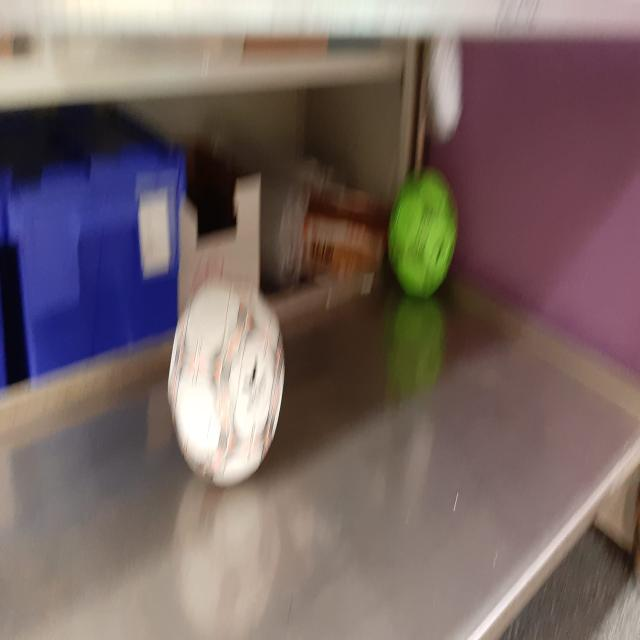ball: (168, 279, 286, 489), (387, 168, 458, 298)
